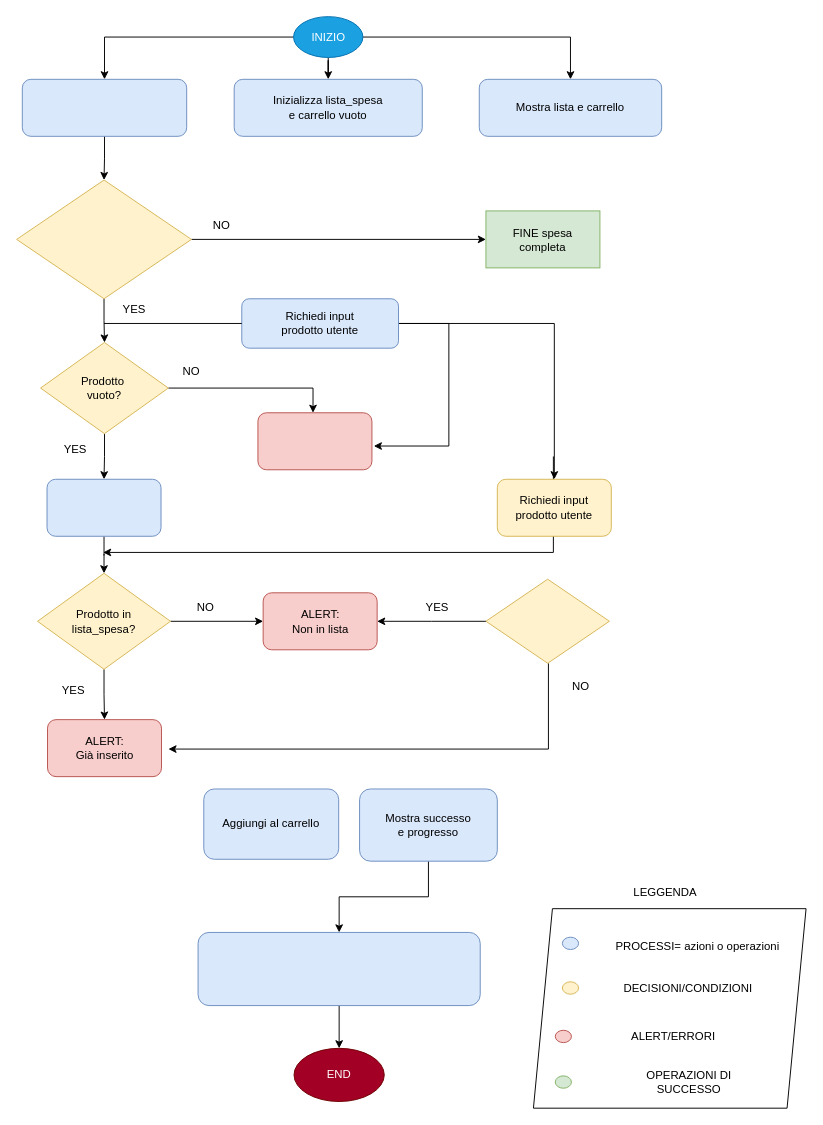
Some shapes in this 823 by 1125 pixel diagram are drawn without their labels. Each missing label, with the centre of its shape:
ALERT: Prodotto vuoto: pixel 314 441
Carrello completo?: pixel 338 968
Carrello completo? (len(carrello) < (len(lista_spesa)): pixel 103 239
Formatta prodotto (strip, lower): pixel 103 507
Mostra messaggi di benvenuto: pixel 104 107
Prodotto già in carrello?: pixel 547 620
